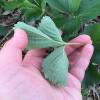Strawberry leaf: (12, 16, 65, 48), (42, 45, 73, 88), (36, 14, 70, 44)
